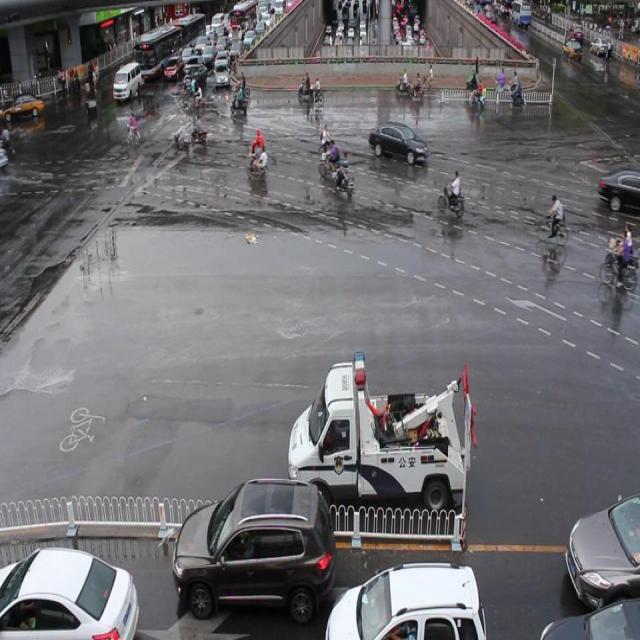BigCar: (125, 16, 183, 84), (174, 4, 208, 60)
car: (286, 346, 472, 524), (164, 484, 334, 621), (318, 551, 496, 640), (1, 538, 141, 640), (363, 114, 434, 178), (114, 60, 145, 120)
